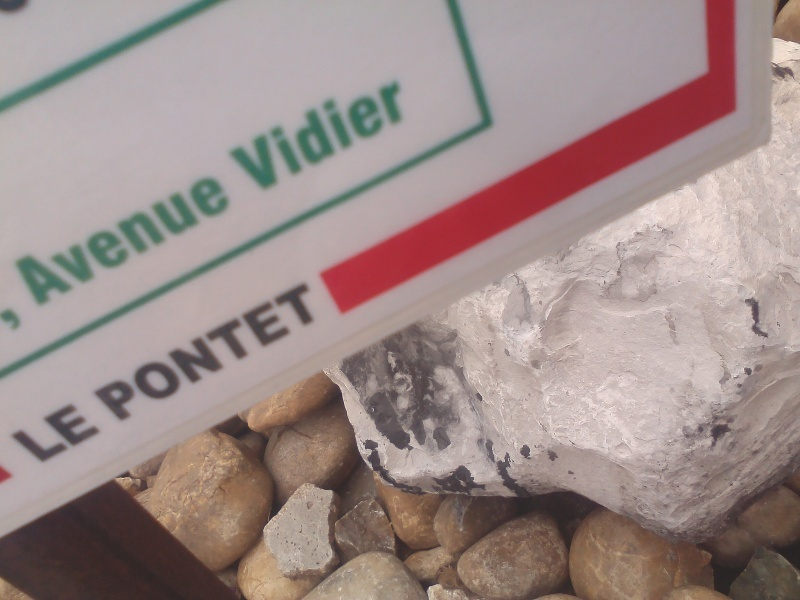text: (97, 281, 112, 423), (113, 281, 128, 423), (129, 281, 144, 423), (145, 281, 160, 423), (161, 281, 176, 423), (177, 281, 192, 423), (193, 281, 208, 423), (209, 281, 224, 423), (225, 281, 240, 423), (241, 281, 256, 423), (257, 281, 272, 423), (273, 281, 288, 423), (289, 281, 304, 423), (305, 281, 320, 423), (17, 172, 32, 313), (33, 172, 48, 313), (49, 172, 64, 313), (65, 172, 80, 313), (81, 172, 96, 313), (97, 172, 112, 313), (113, 172, 128, 313), (129, 172, 144, 313), (145, 172, 160, 313), (161, 172, 176, 313), (177, 172, 192, 313), (193, 172, 208, 313), (209, 172, 224, 313), (225, 68, 240, 195), (241, 68, 256, 195), (257, 68, 272, 195), (273, 68, 288, 195), (289, 68, 304, 195), (305, 68, 320, 195), (321, 68, 336, 195), (337, 68, 352, 195), (353, 68, 368, 195), (369, 68, 384, 195), (385, 68, 400, 195), (401, 68, 416, 195), (225, 172, 236, 313), (89, 281, 96, 423), (17, 404, 32, 465), (33, 404, 48, 465), (49, 404, 64, 465), (65, 404, 80, 465), (81, 404, 96, 465), (321, 281, 326, 423), (7, 404, 16, 465), (13, 172, 16, 313), (1, 308, 16, 330), (97, 404, 102, 465), (222, 68, 224, 195), (17, 308, 22, 330)
